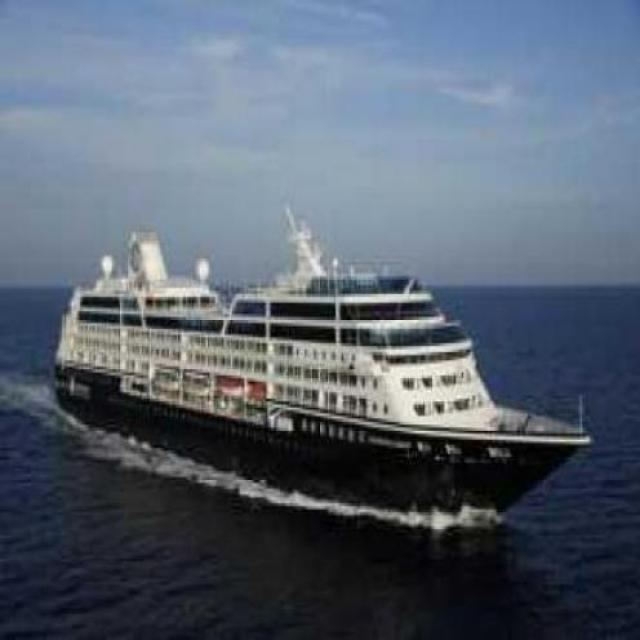boat: (44, 253, 597, 524)
